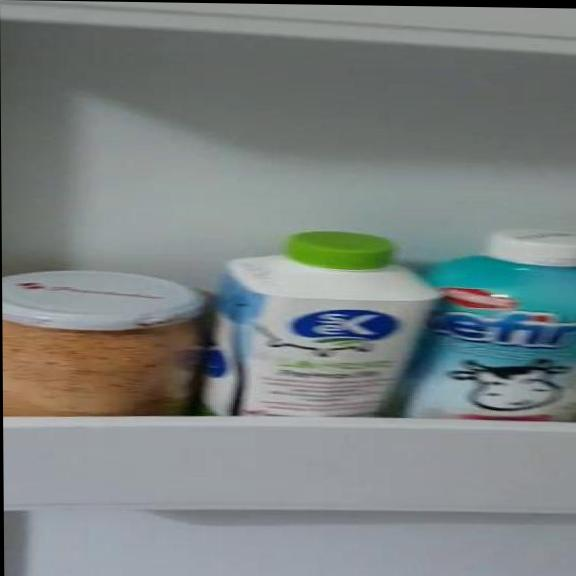milk: (204, 231, 414, 416)
